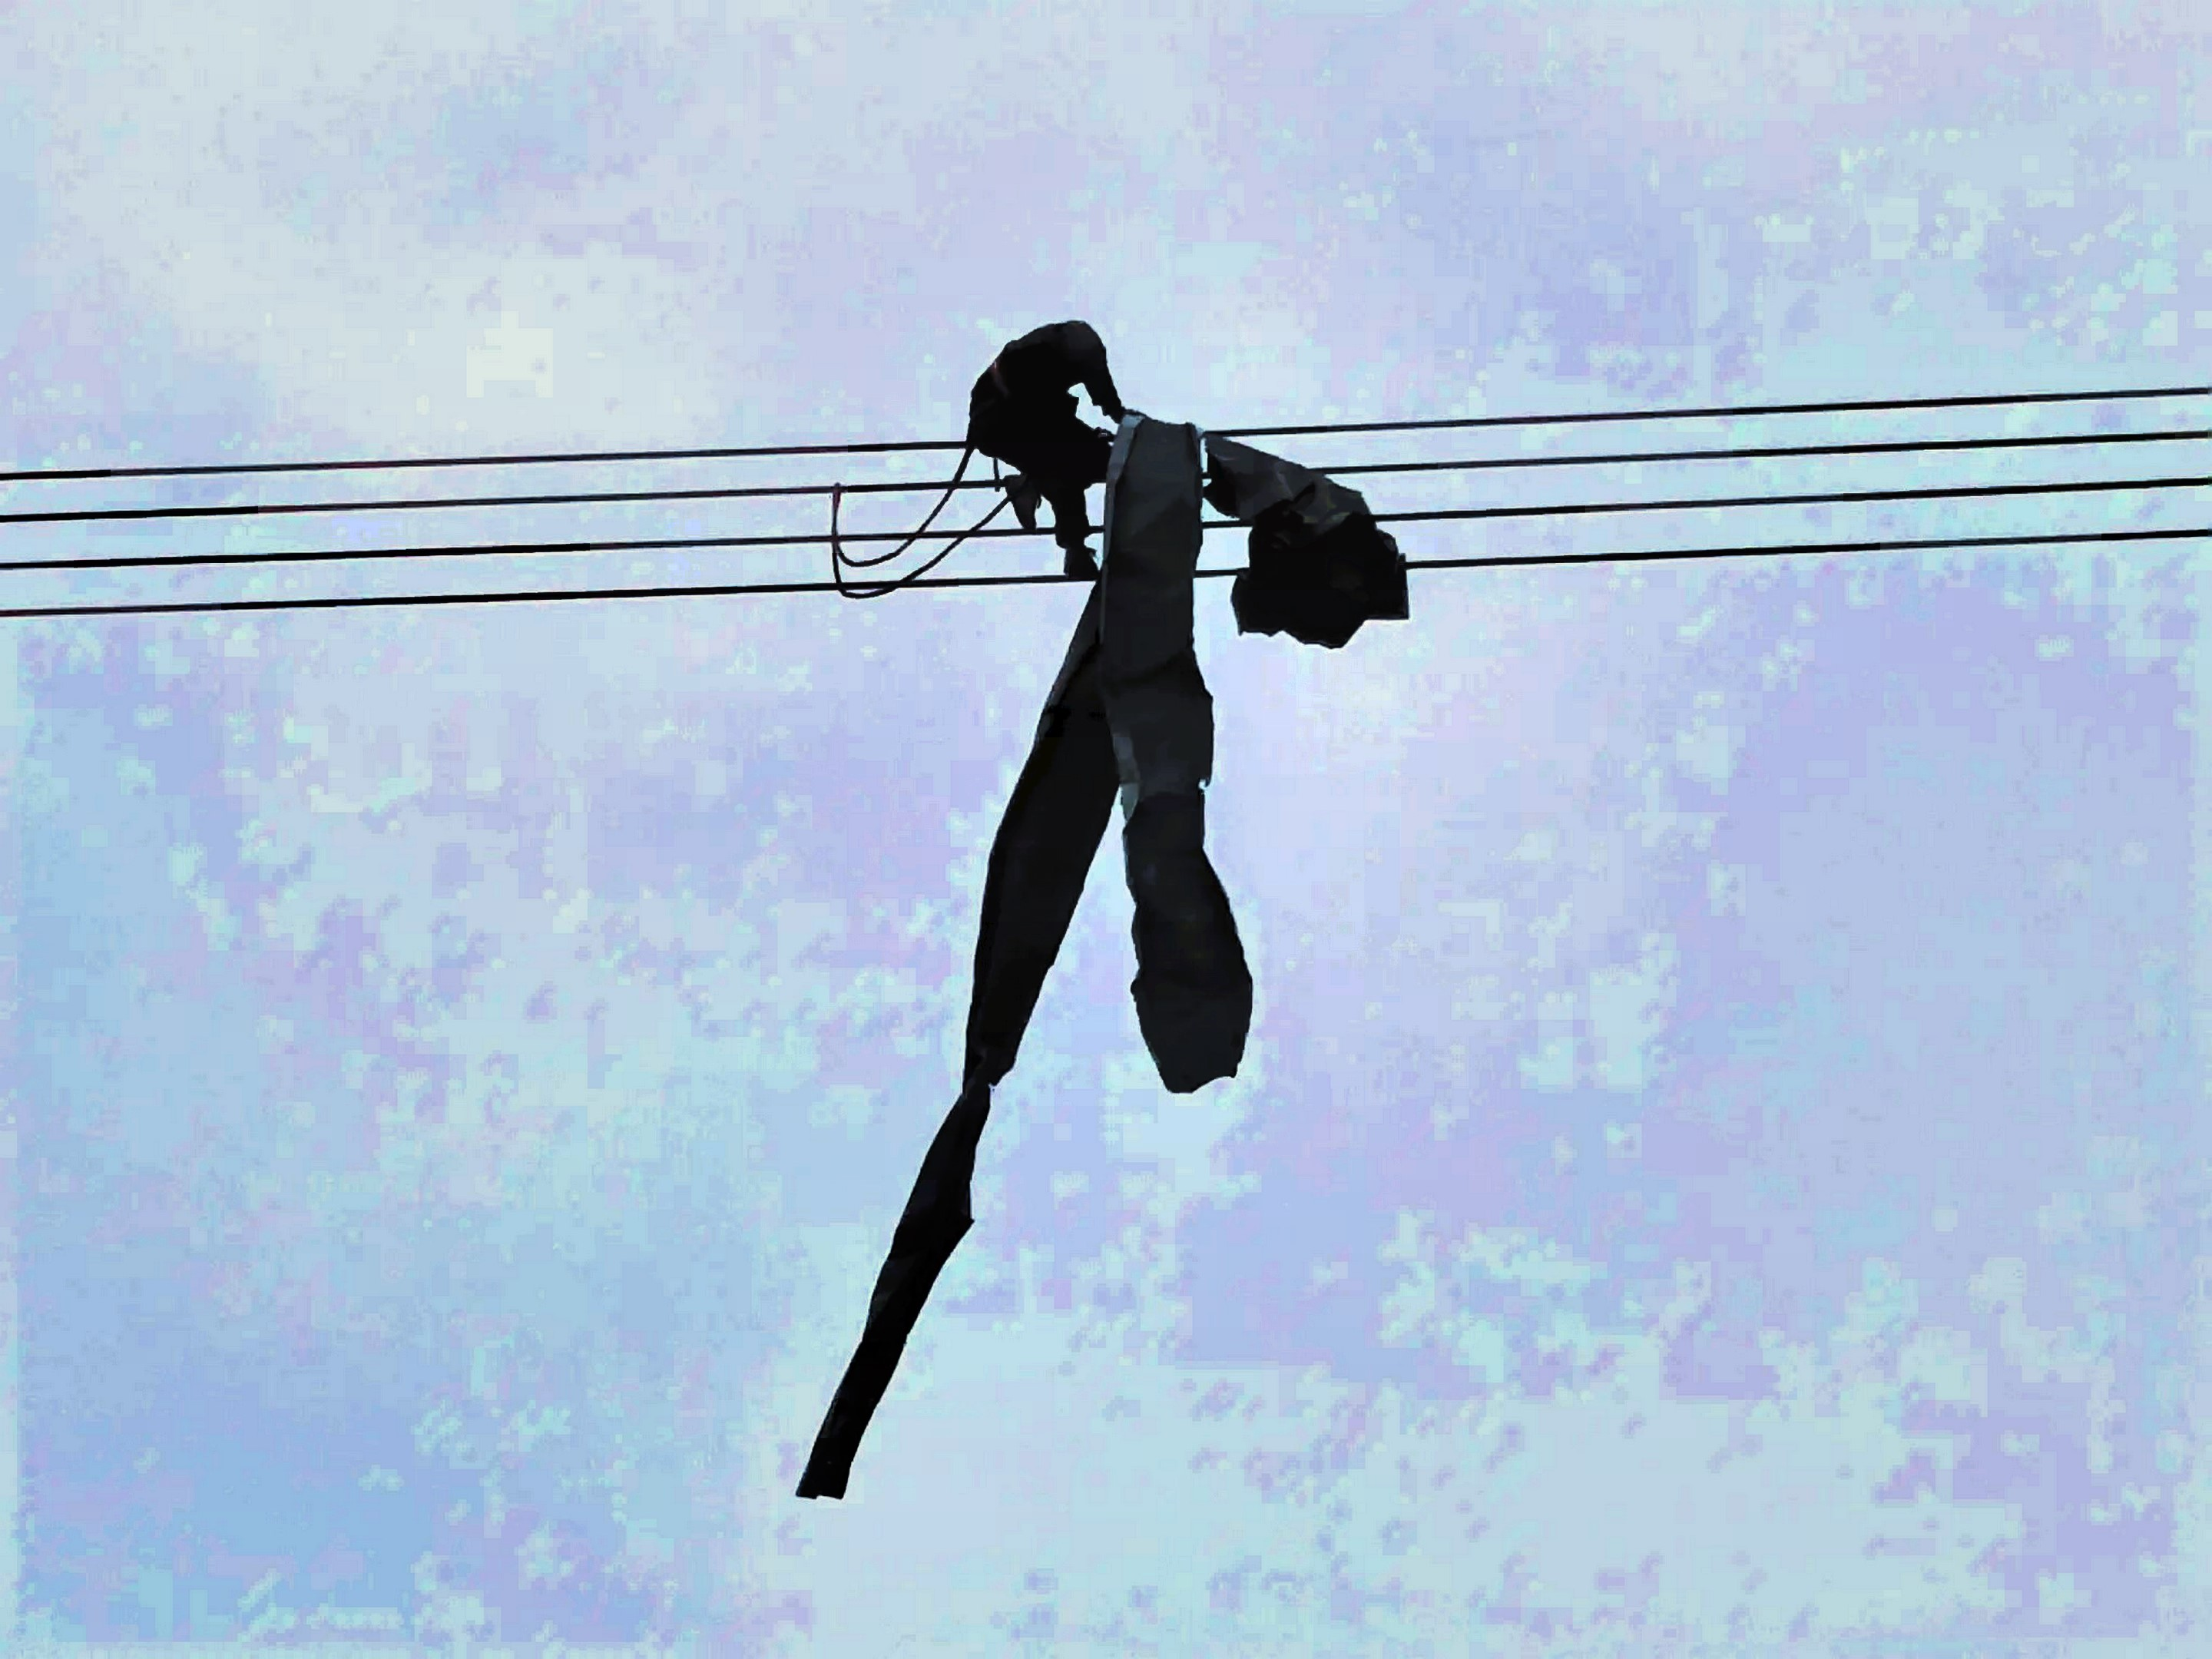wire foreign body: (777, 401, 1397, 1506)
